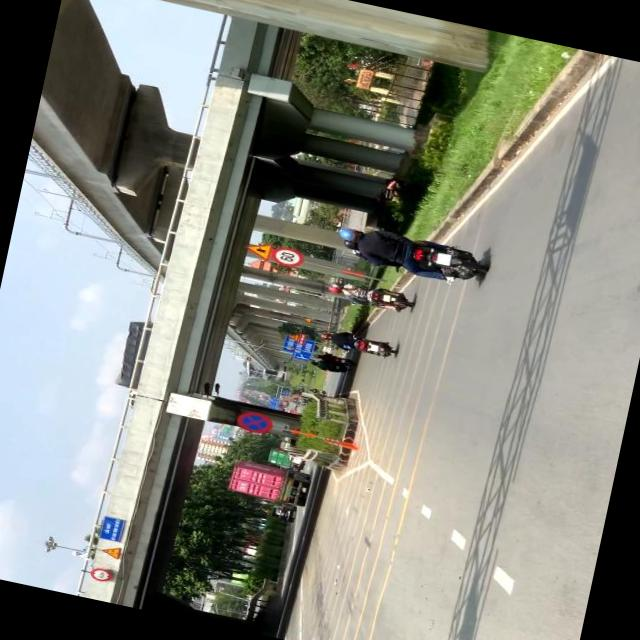P-127: (270, 244, 304, 268)
P-130: (232, 406, 274, 436)
W-207b: (239, 239, 273, 259)
